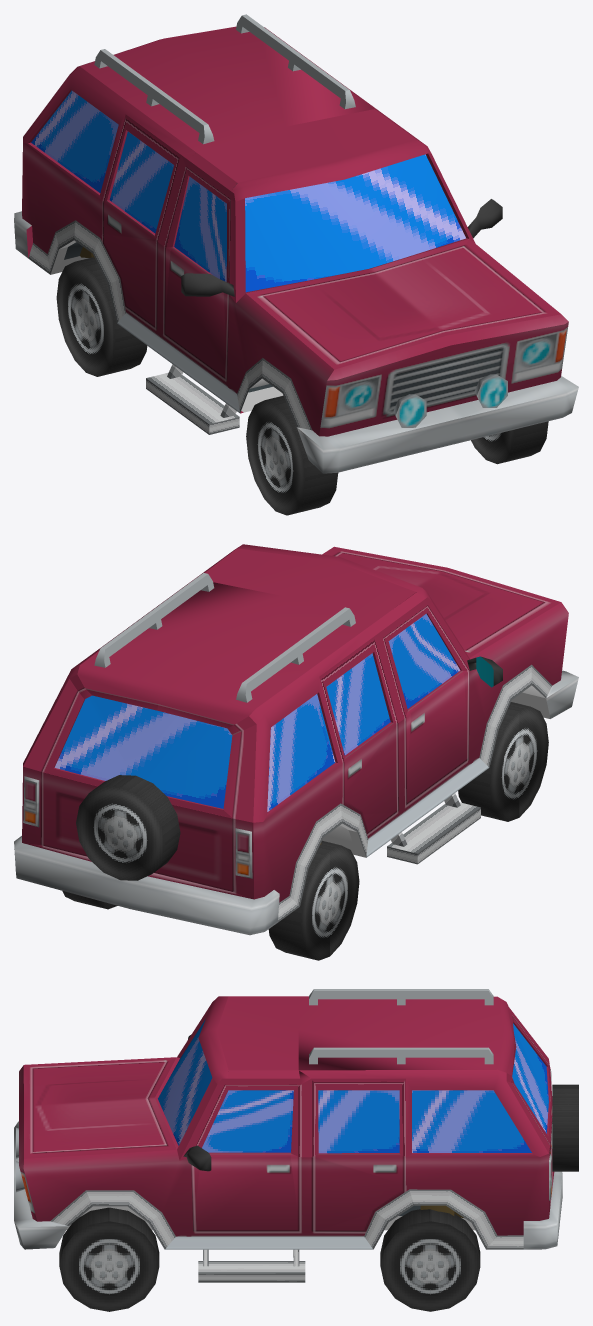
The picture shows the model from 3 angles, top to bottom: view 1: azimuth 30°, elevation 25°; view 2: azimuth 150°, elevation 25°; view 3: azimuth 270°, elevation 25°; orthographic projection. The views are drawn at different scales.
Visible parts, largest first — view 1: Canyonero; view 2: Canyonero; view 3: Canyonero.
Boxes of the visible parts, x1,y1,x2,y2 form: Canyonero: [14, 14, 578, 515]; Canyonero: [14, 544, 578, 960]; Canyonero: [14, 989, 578, 1311].
Bounding box in the file's own units: 2.9 × 2.49 × 5.27.
